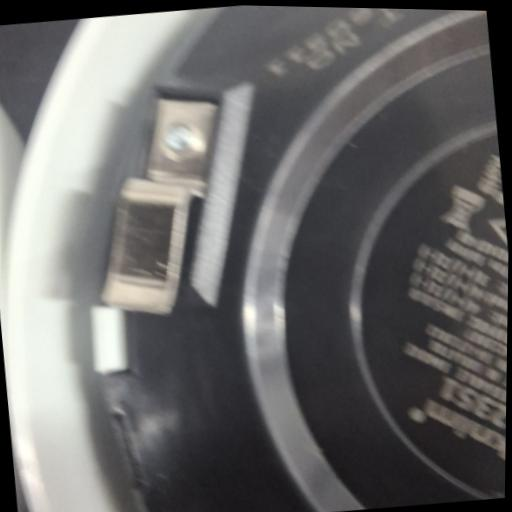yaysiz: (77, 85, 244, 339)
